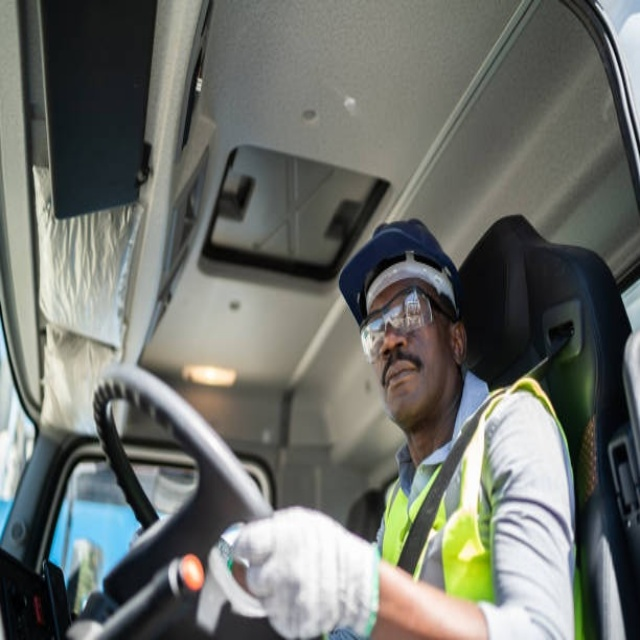Gafas: (360, 286, 453, 364)
Guantes: (225, 505, 379, 640)
Sin_mascara: (376, 358, 425, 403)
